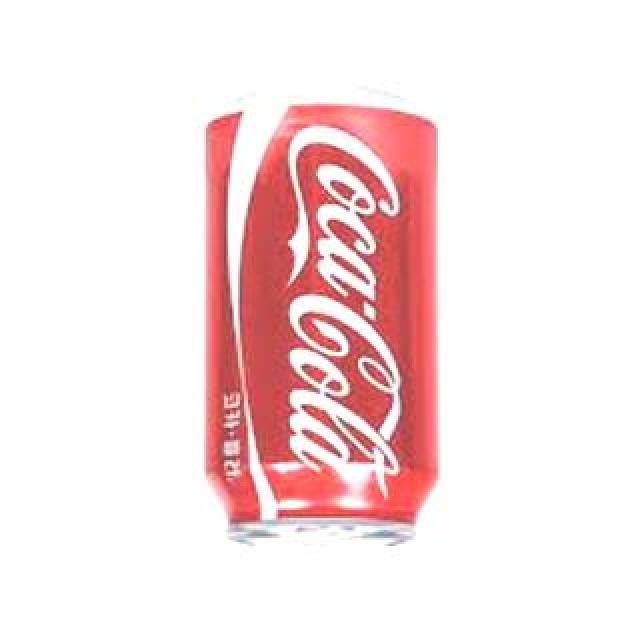Can: (181, 81, 441, 551)
